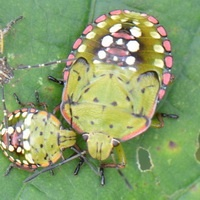insect: (0, 10, 172, 184)
